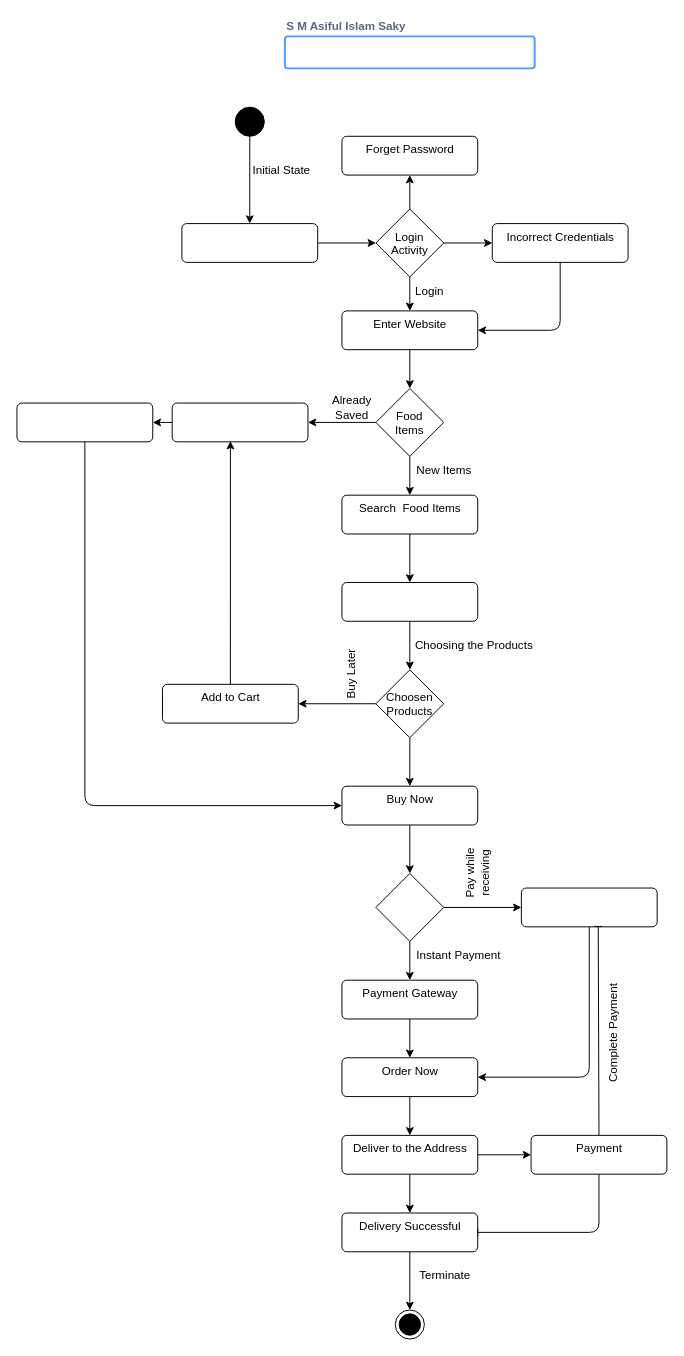
The diagram is 684 pixels wide and 1356 high, and some of its shapes have lost their labels. The shapes that lost their labels are listed below. From the top down, each one's box as (x1, y1, x2, y2) in pixels, then its label:
(283, 35, 535, 69): Food Order & Delivery Service
(181, 223, 318, 262): Login Portal
(16, 402, 153, 442): View Food Items
(171, 402, 308, 442): View Shopping Cart
(341, 582, 478, 621): Category
(375, 873, 444, 941): Payment Method
(520, 887, 657, 927): Cash On Delivery
